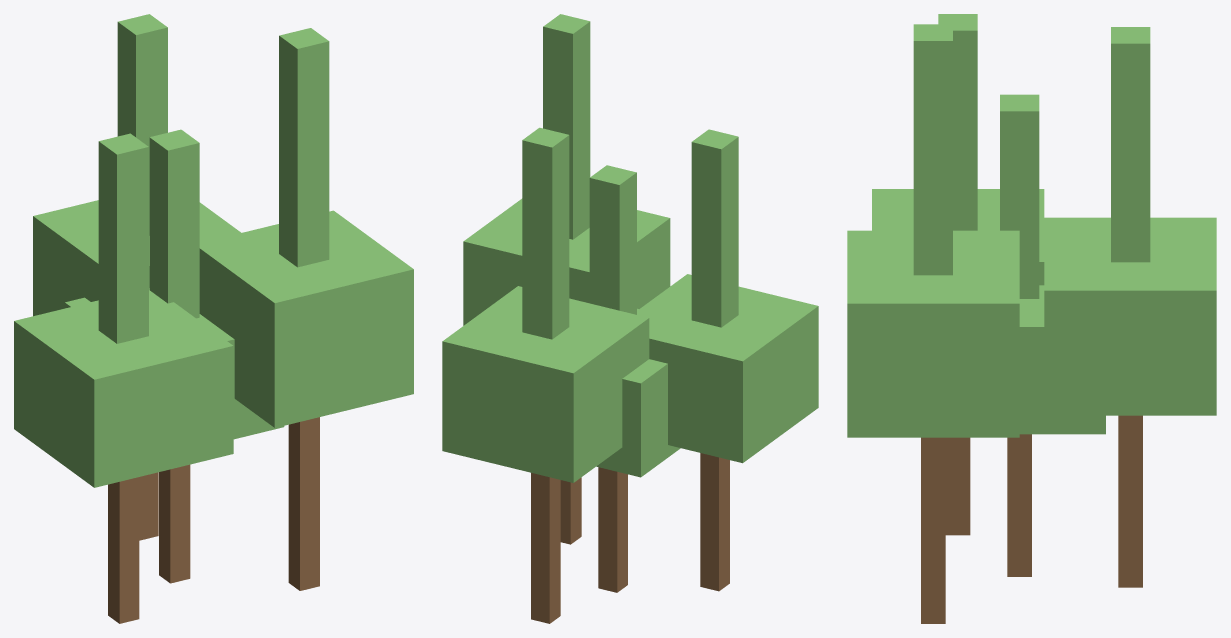
File: voxel-shandong-bamboo-grove.gltf
3 renders of one model, left to right at view 1: azimuth 30°, elevation 25°; view 2: azimuth 150°, elevation 25°; view 3: azimuth 270°, elevation 25°, orthographic. The views are drawn at different scales.
Size of the model in its own units: 1.55 by 2.62 by 1.5.
